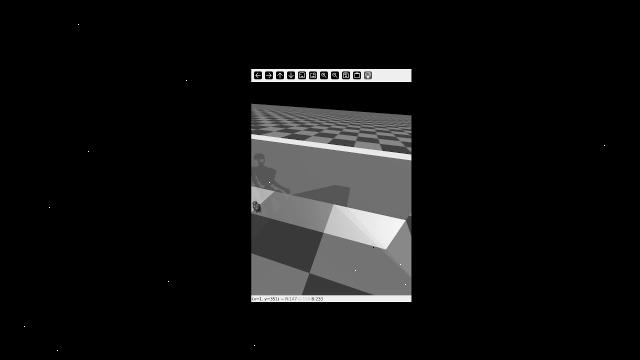esfera: (252, 198, 260, 214)
